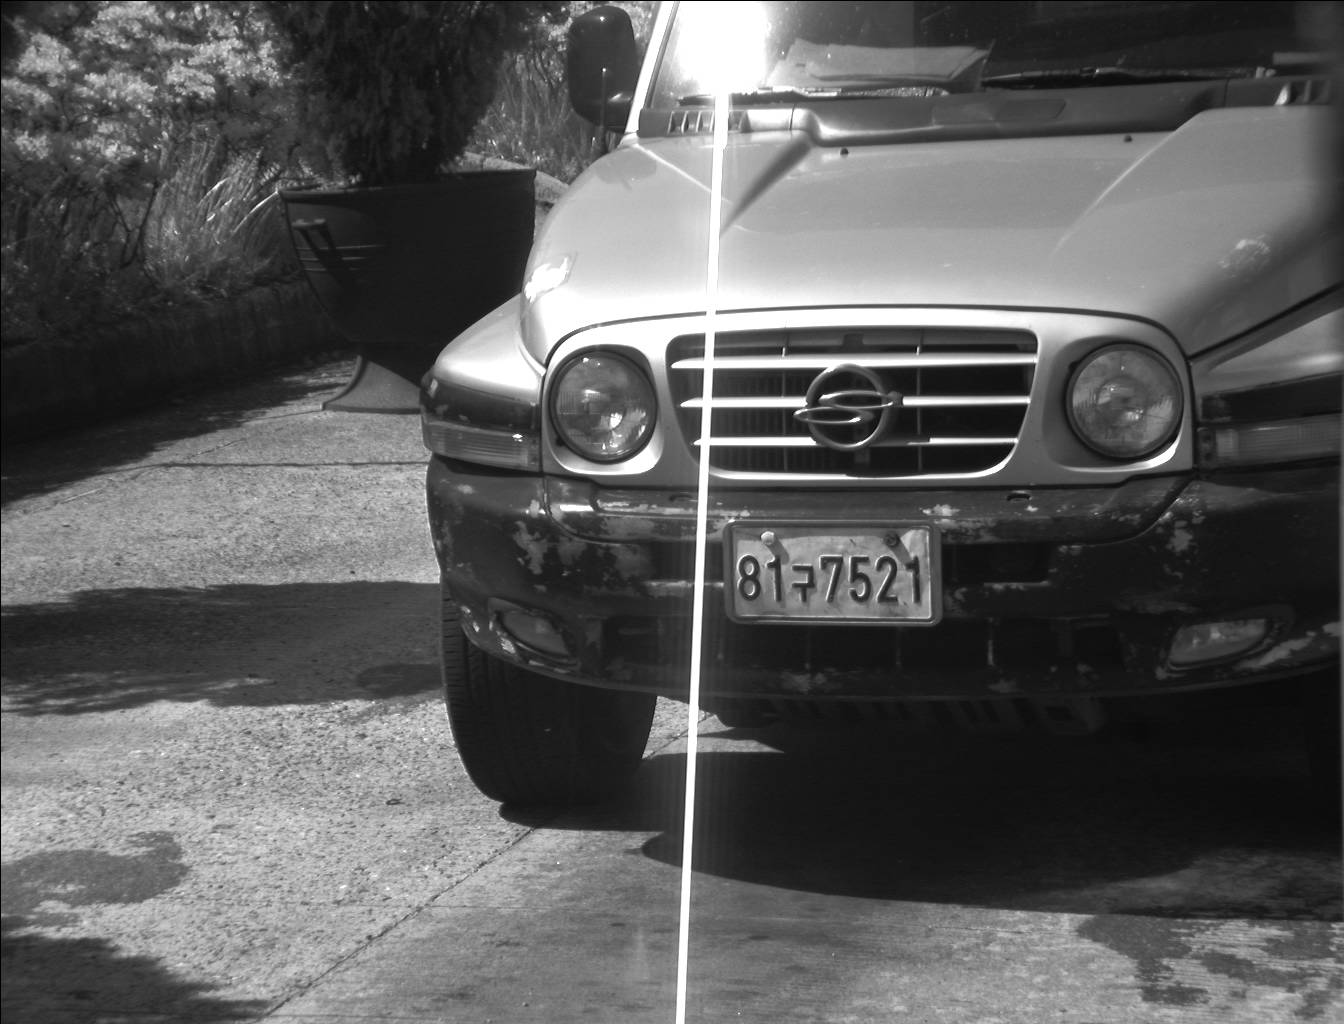car: (410, 1, 1343, 813)
plate: (721, 517, 945, 626)
